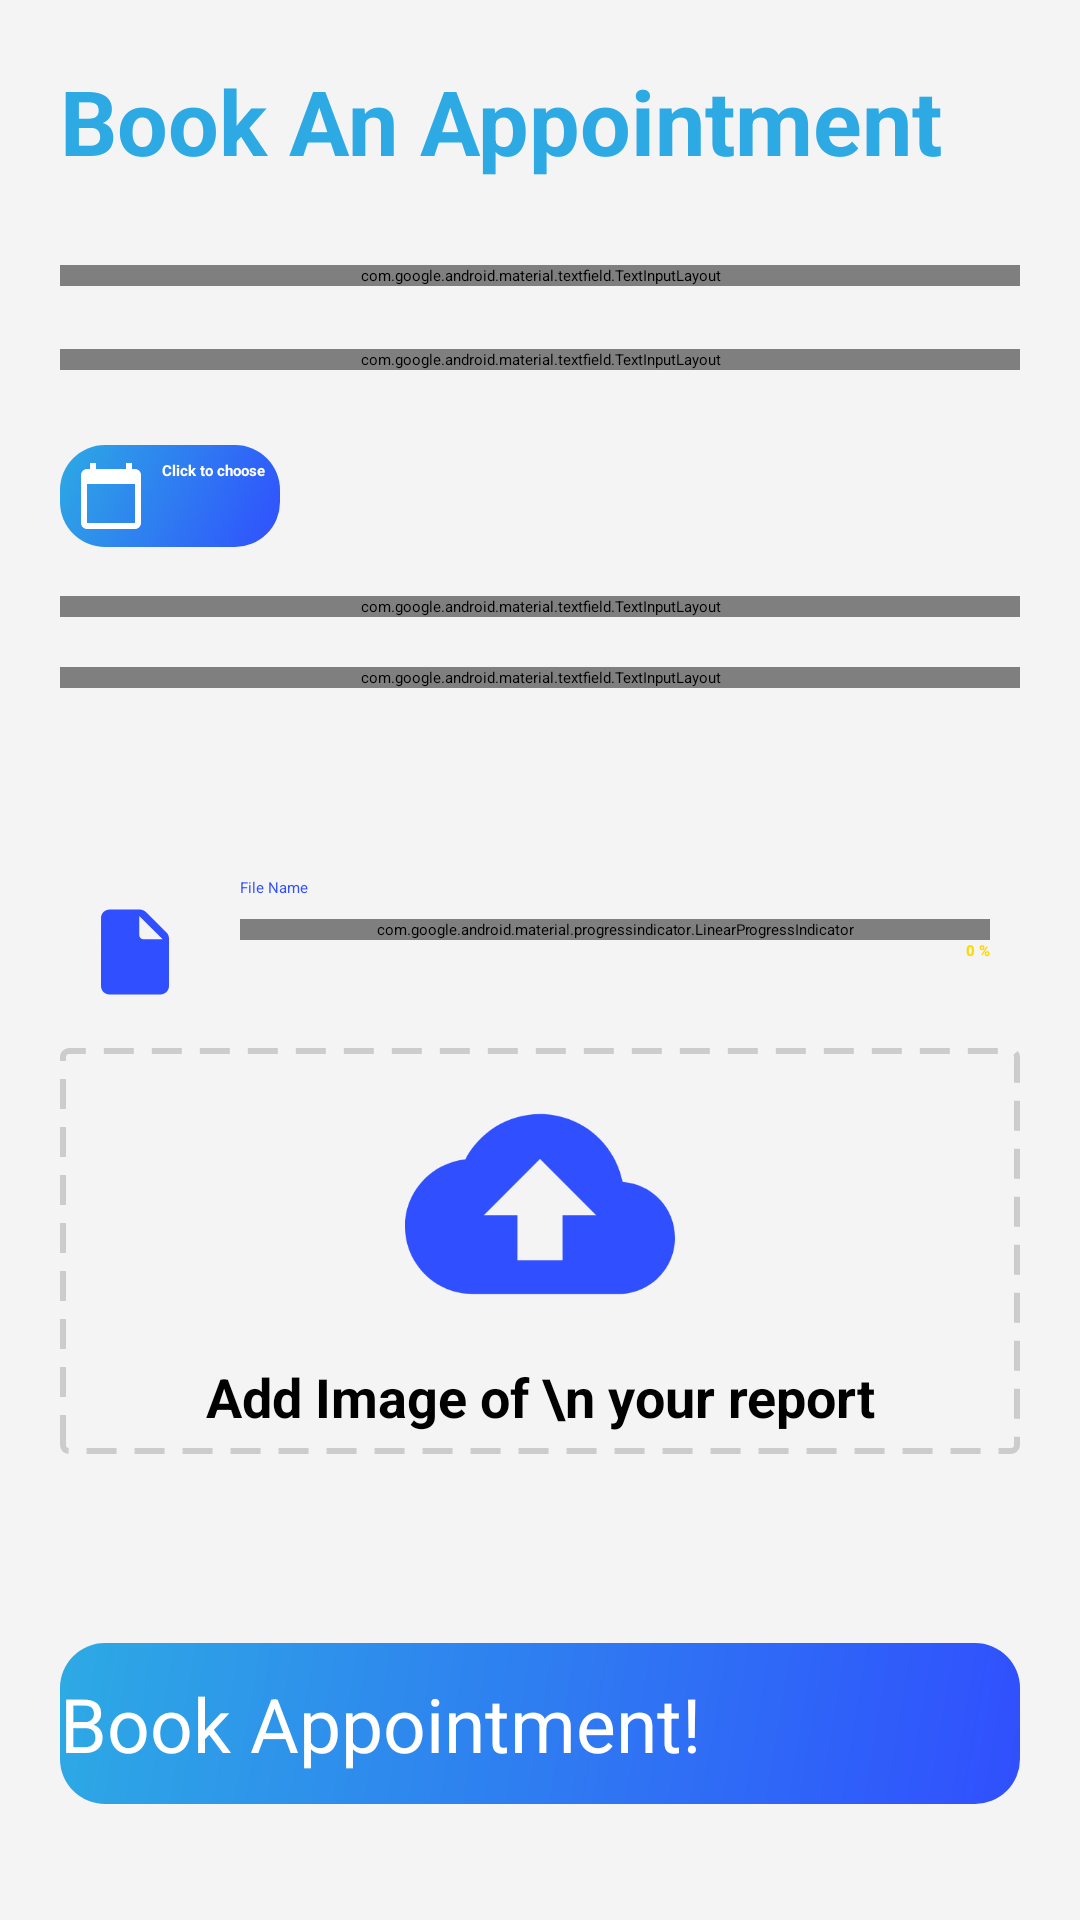

Icon bounding boxes for this 1080x1920 phone screenshot, format bbox=[x1, y1, x2, y2]:
cloud upload: bbox=[405, 1114, 675, 1294]
insert drive file: bbox=[101, 909, 169, 995]
